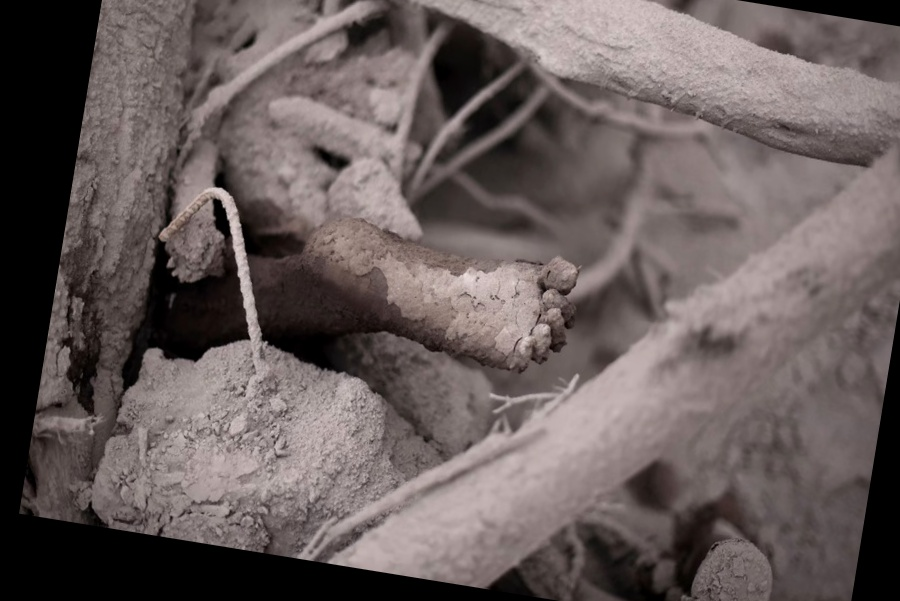Korban: (161, 189, 586, 412)
